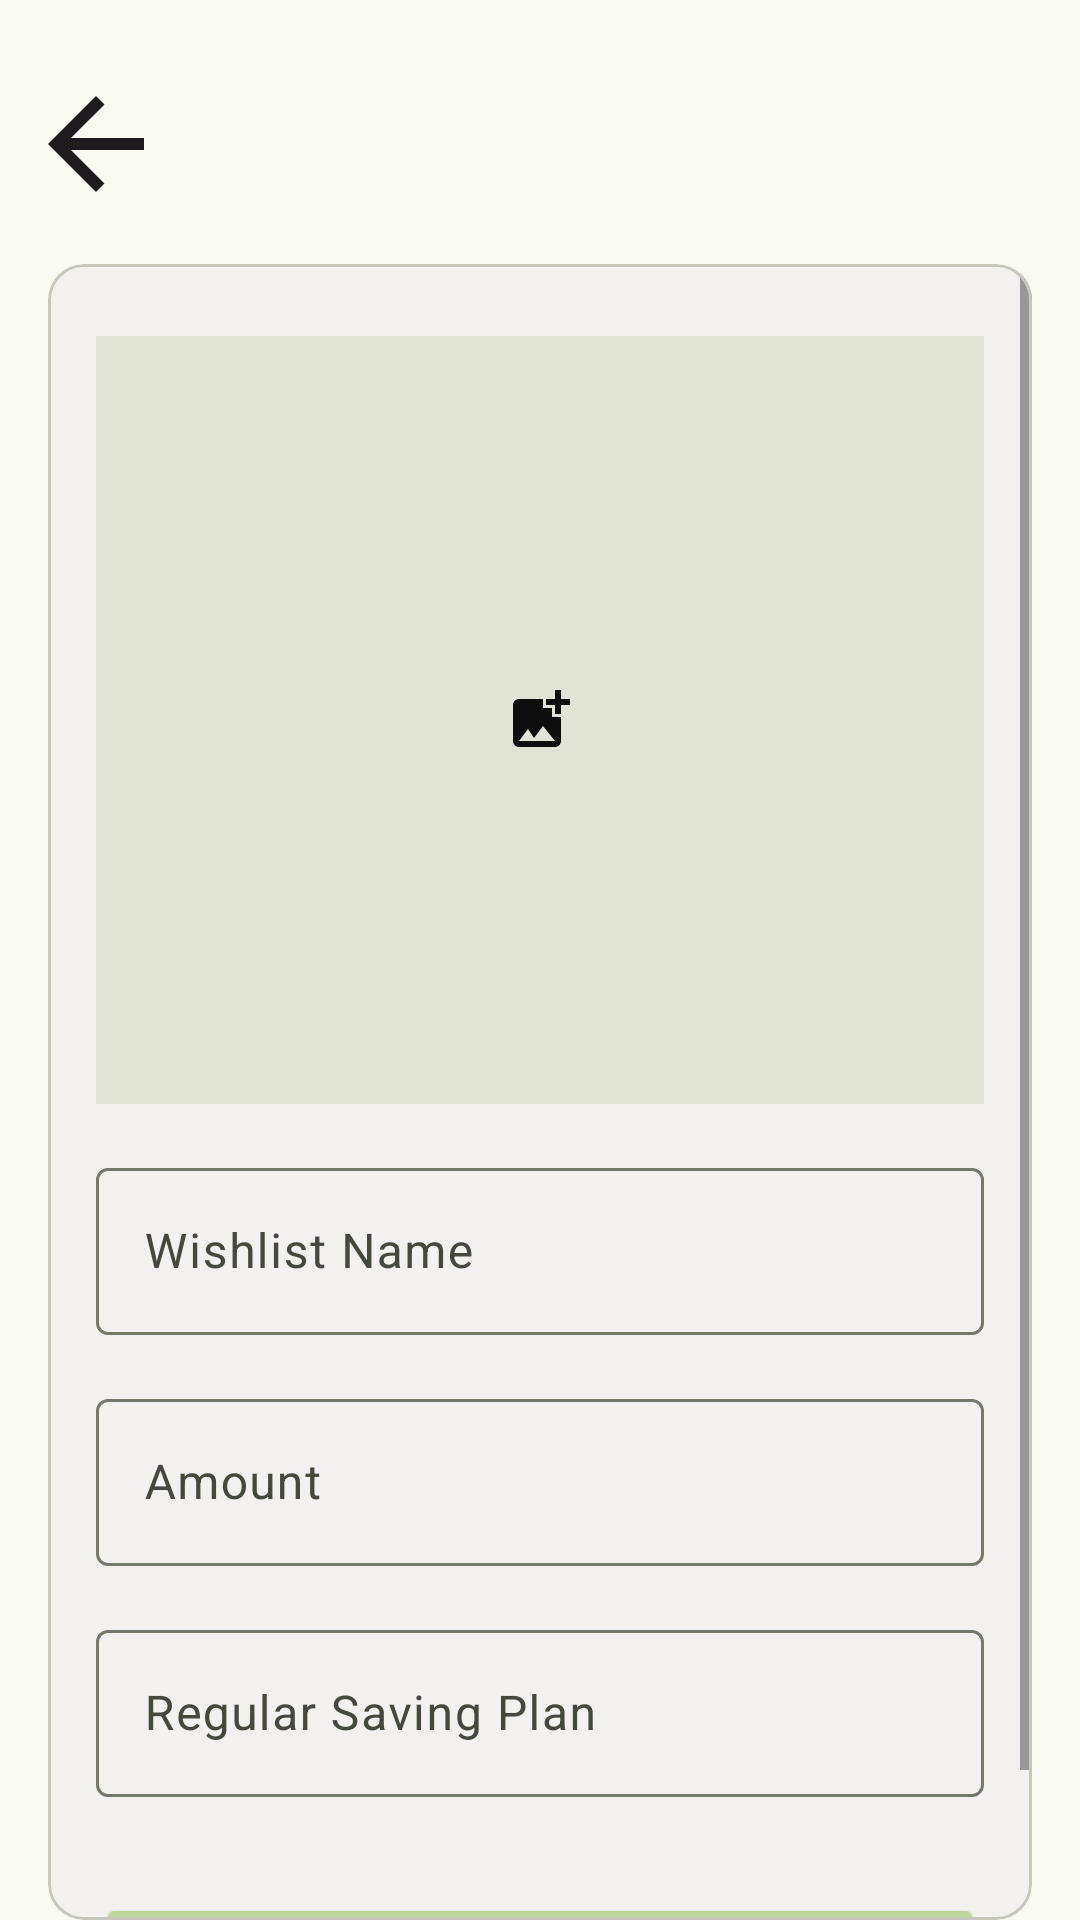

Where to tap for icons on this 1080x1920 app screen, as point (x, y):
arrow back: point (96, 144)
